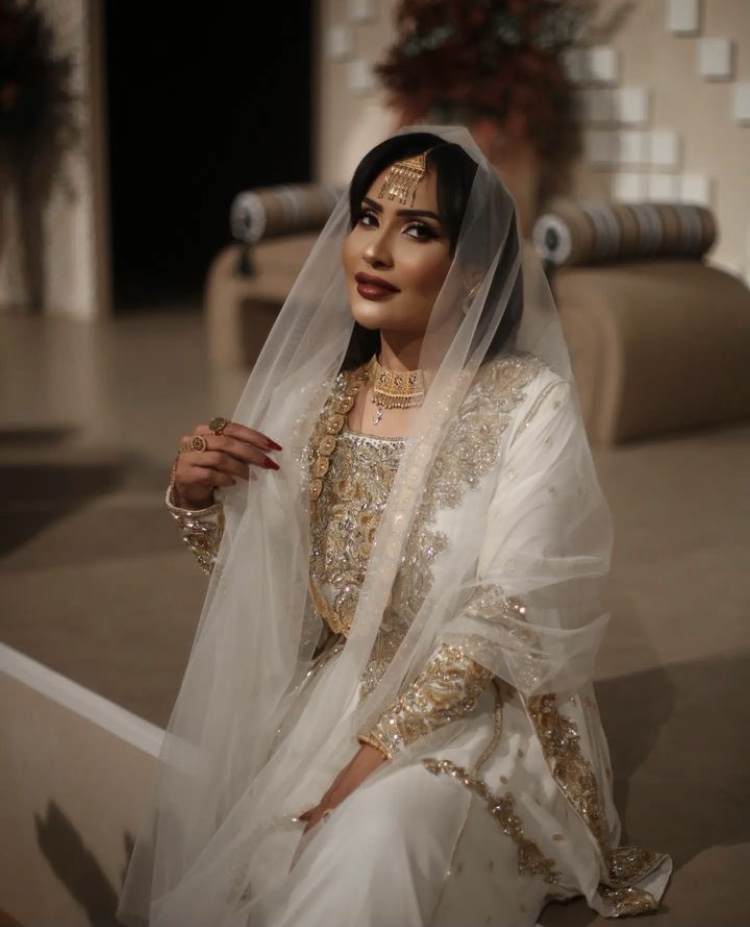Saudi_Founding_Day: (112, 121, 674, 927)
